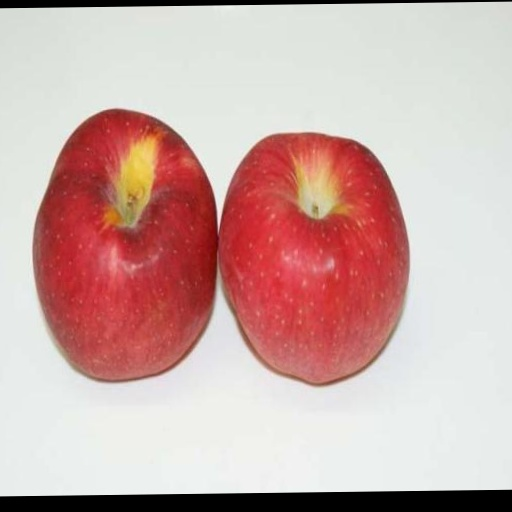fruit: (33, 110, 216, 380), (220, 134, 408, 383)
